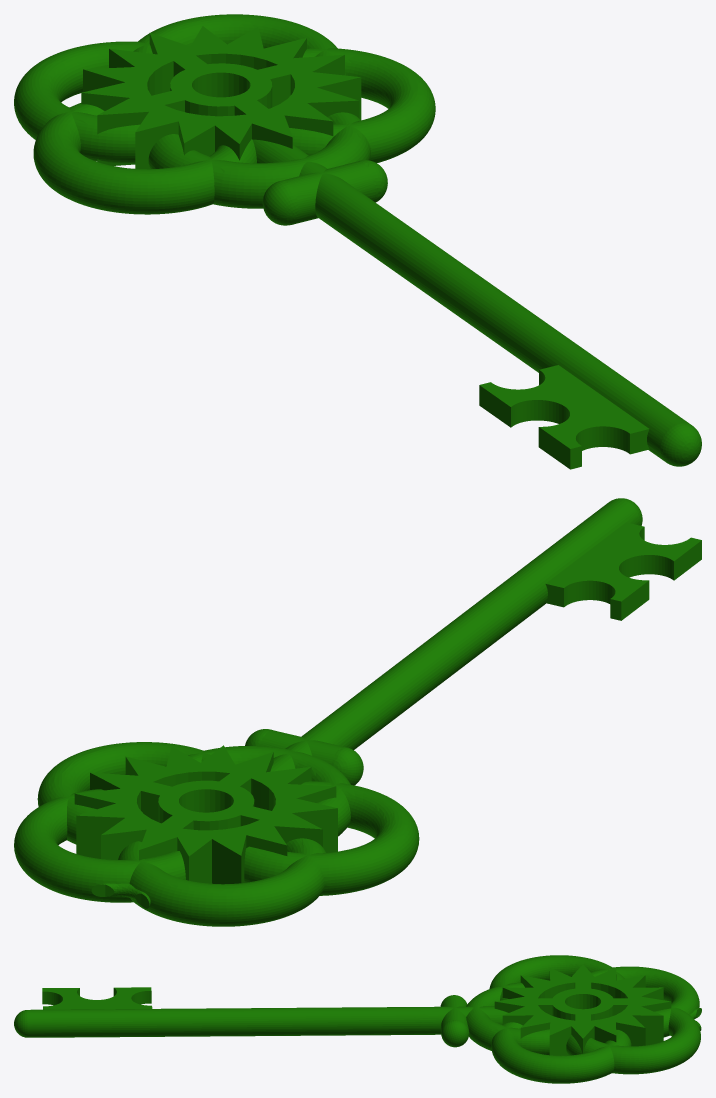
File: Steampunk_Key5.stl.glb
3 renders of one model, top to bottom at view 1: azimuth 30°, elevation 25°; view 2: azimuth 150°, elevation 25°; view 3: azimuth 270°, elevation 25°, orthographic. The views are drawn at different scales.
Visible parts, largest first — view 1: Steampunk_Key5; view 2: Steampunk_Key5; view 3: Steampunk_Key5.
Boxes of the visible parts, x1,y1,x2,y2 form: Steampunk_Key5: (14,14,701,469); Steampunk_Key5: (14,498,701,926); Steampunk_Key5: (14,955,701,1083).
Size of the model in its own units: 45.23 by 6.08 by 117.
